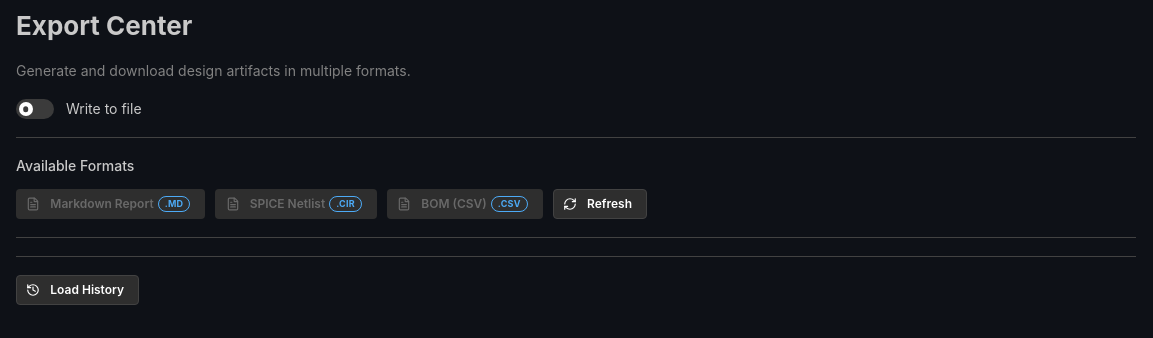
Test: ExportScreen › toggles write-to-file switch and shows output directory input
The width and height of the screenshot is (1153, 338).
Click the switch. click: click(79, 109)
box: [16,99,142,119]
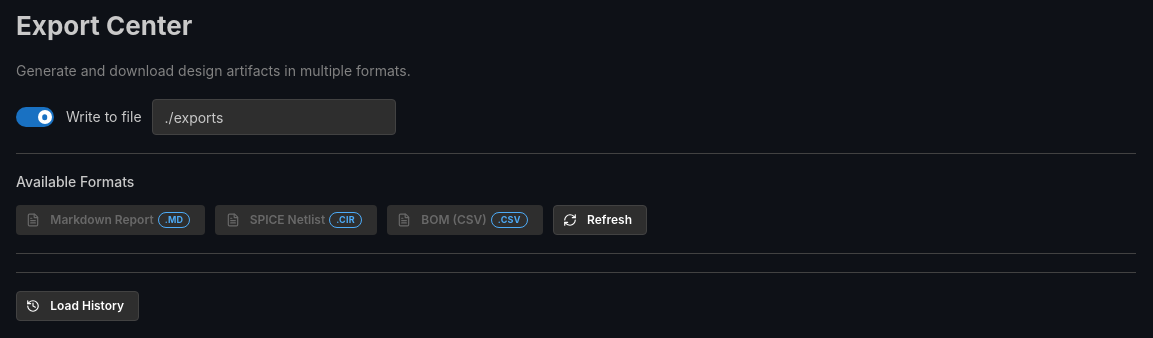
Expected: the switch is checked, [16,107,142,127]
Expected: the field with placeholder "Output directory" is shown, [152,99,396,135]
